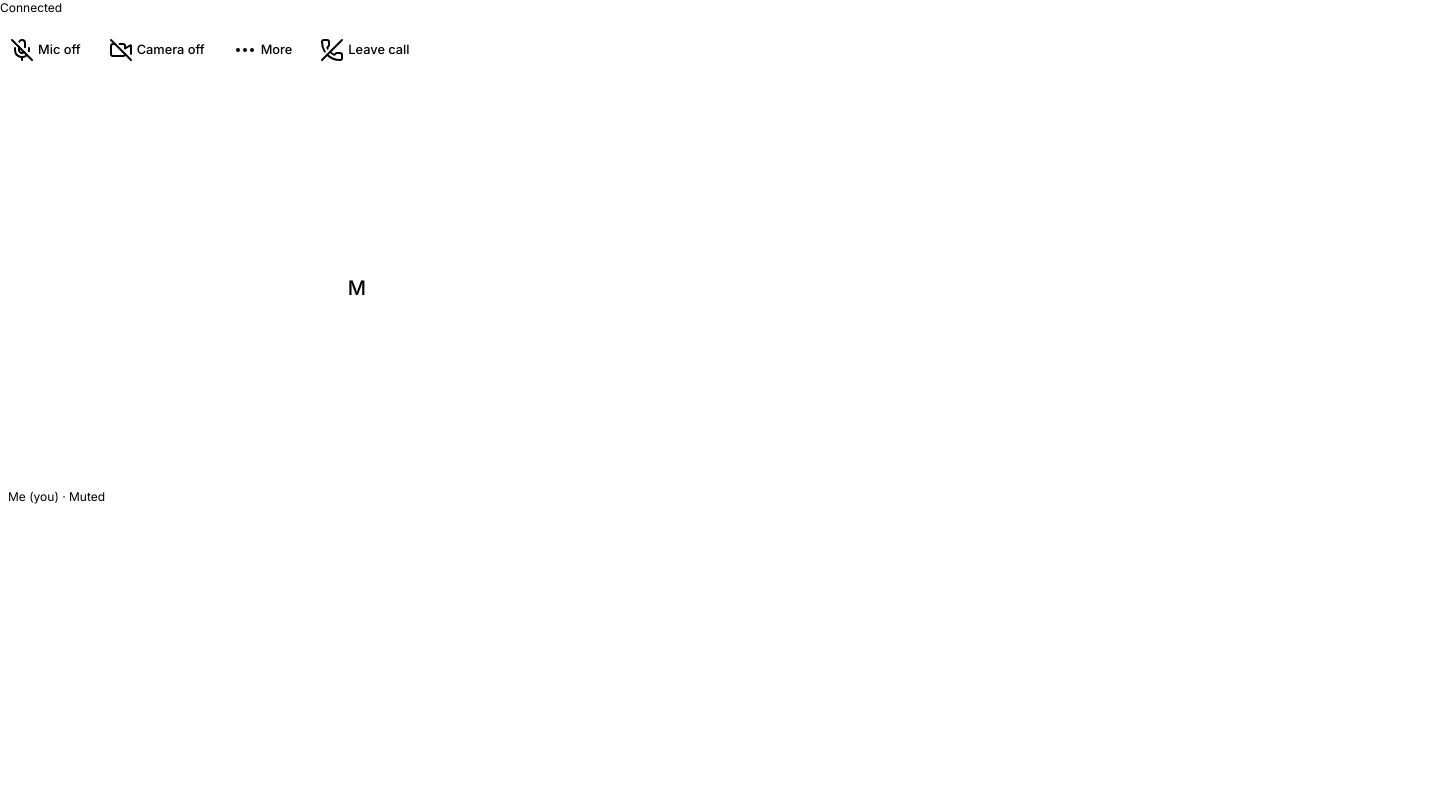
Scenario: keeps sound recovery contextual and moves device selection into More without reconnecting
The image size is (1440, 810).
Check: the text "Connected" is shown, box [0,0,62,15]
Click the button with aria-label "More call options".
click(262, 50)  # box [223,28,302,72]
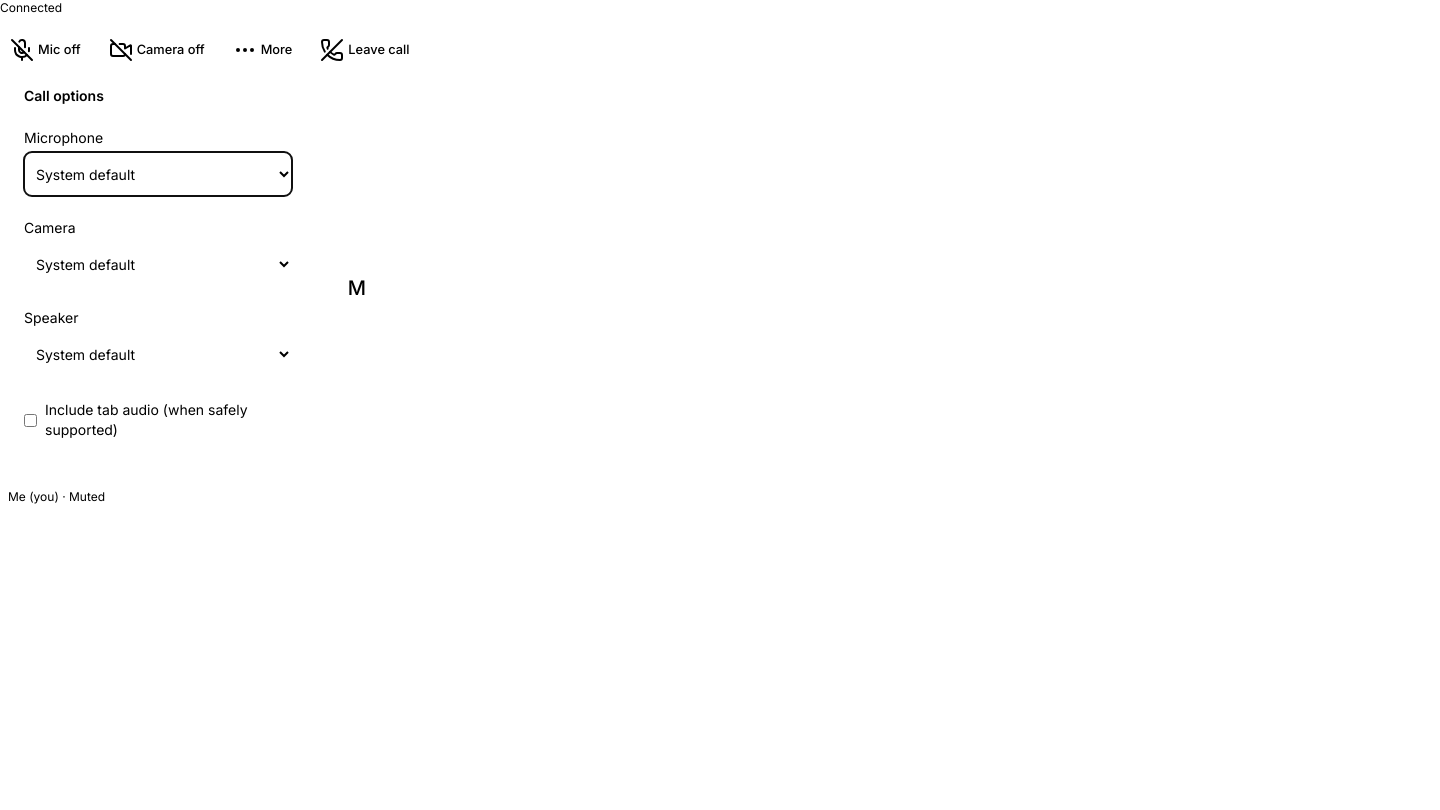
Check: the dropdown named "Microphone device" is shown, box [24,152,292,196]
